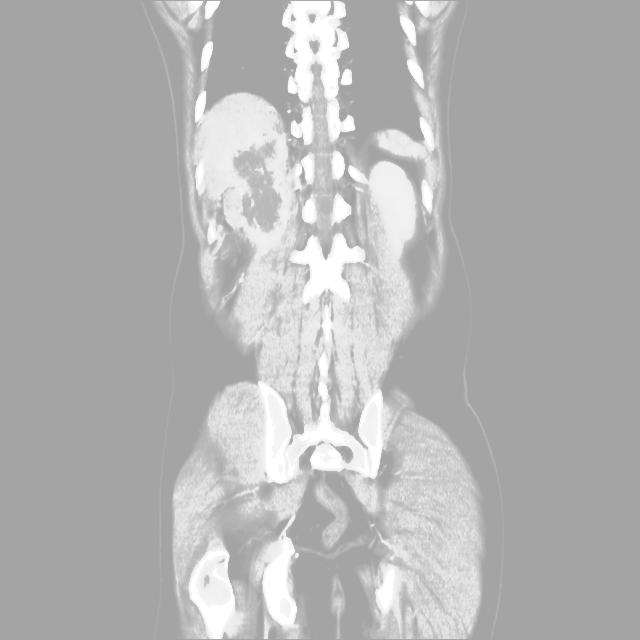TUMOR: (122, 126, 495, 499)
